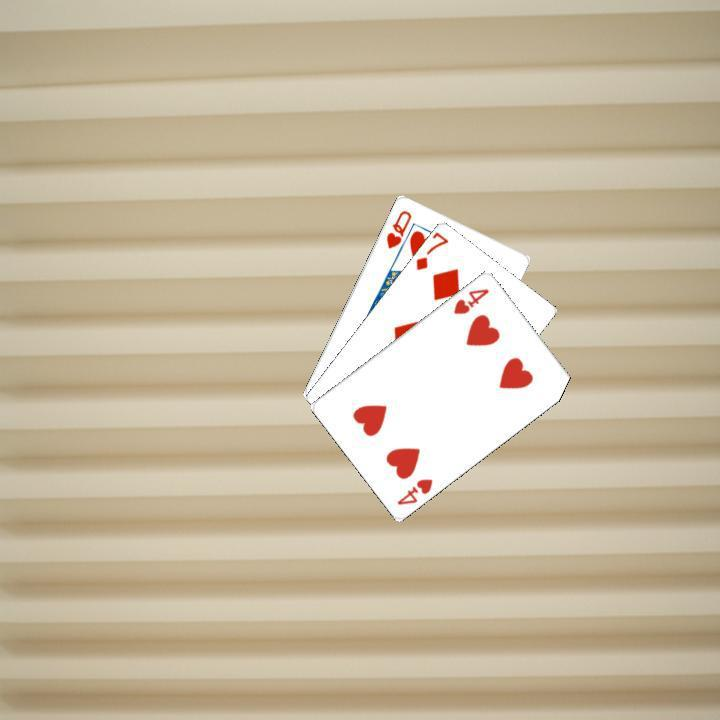4: (449, 283, 491, 316), (393, 474, 435, 507)
7: (411, 228, 451, 272)
Q: (382, 205, 413, 250)
